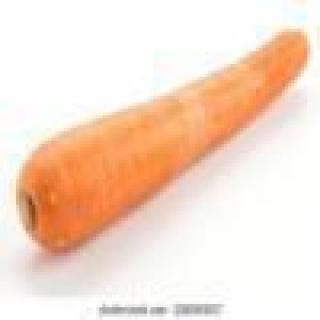Wortel: (11, 23, 305, 273)
